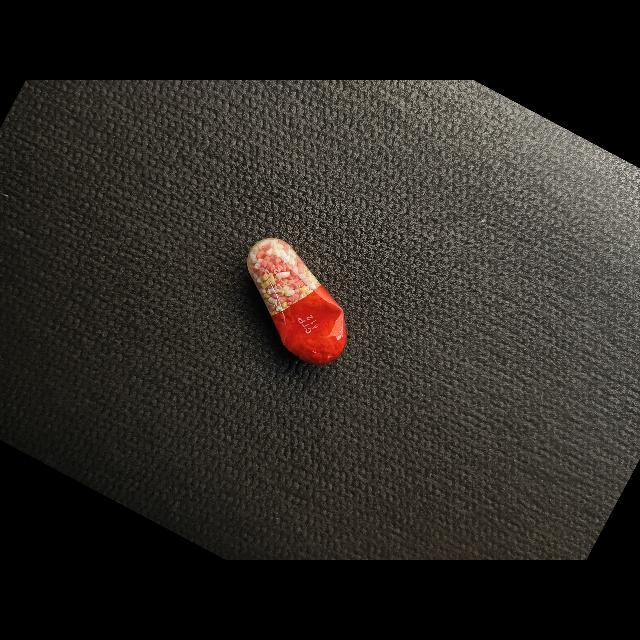Defective Capsule: (247, 238, 347, 364)
